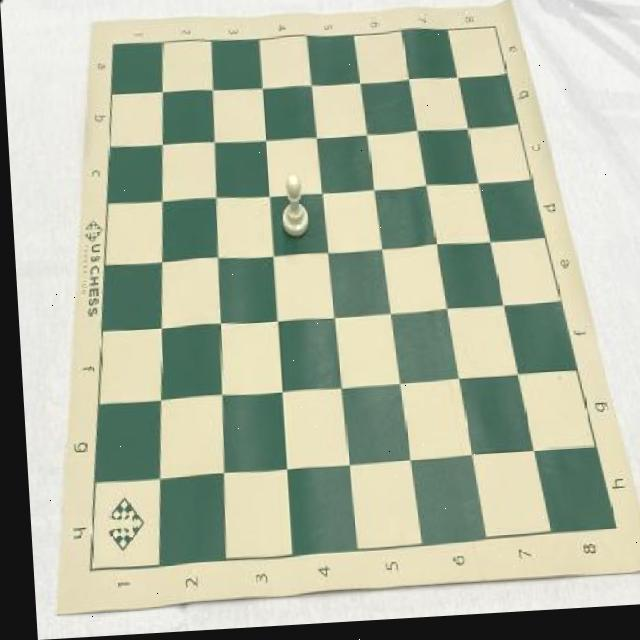white-knight: (278, 175, 309, 243)
